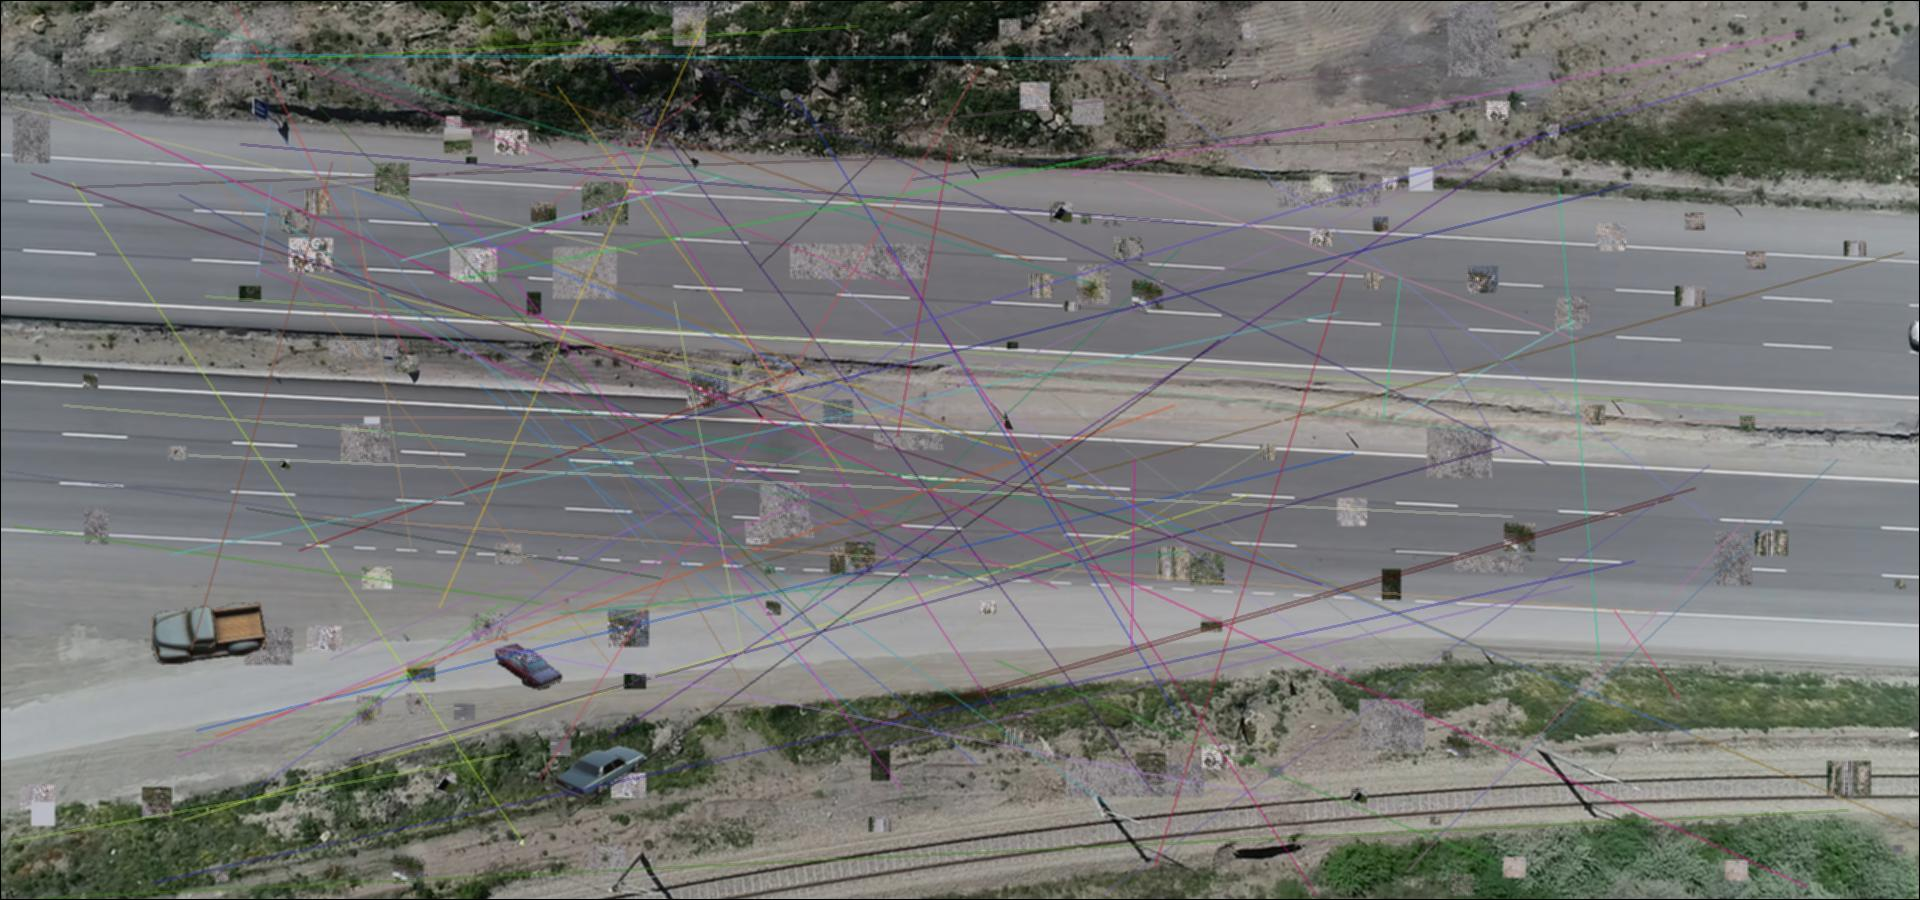arac: (152, 601, 269, 667), (550, 744, 647, 800), (491, 638, 564, 691)
